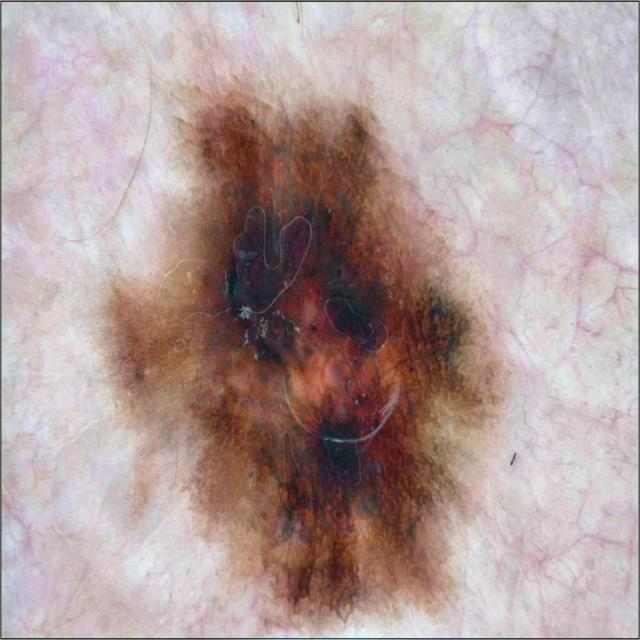Melanocytic-Nevi-NV-: (112, 92, 498, 612)
